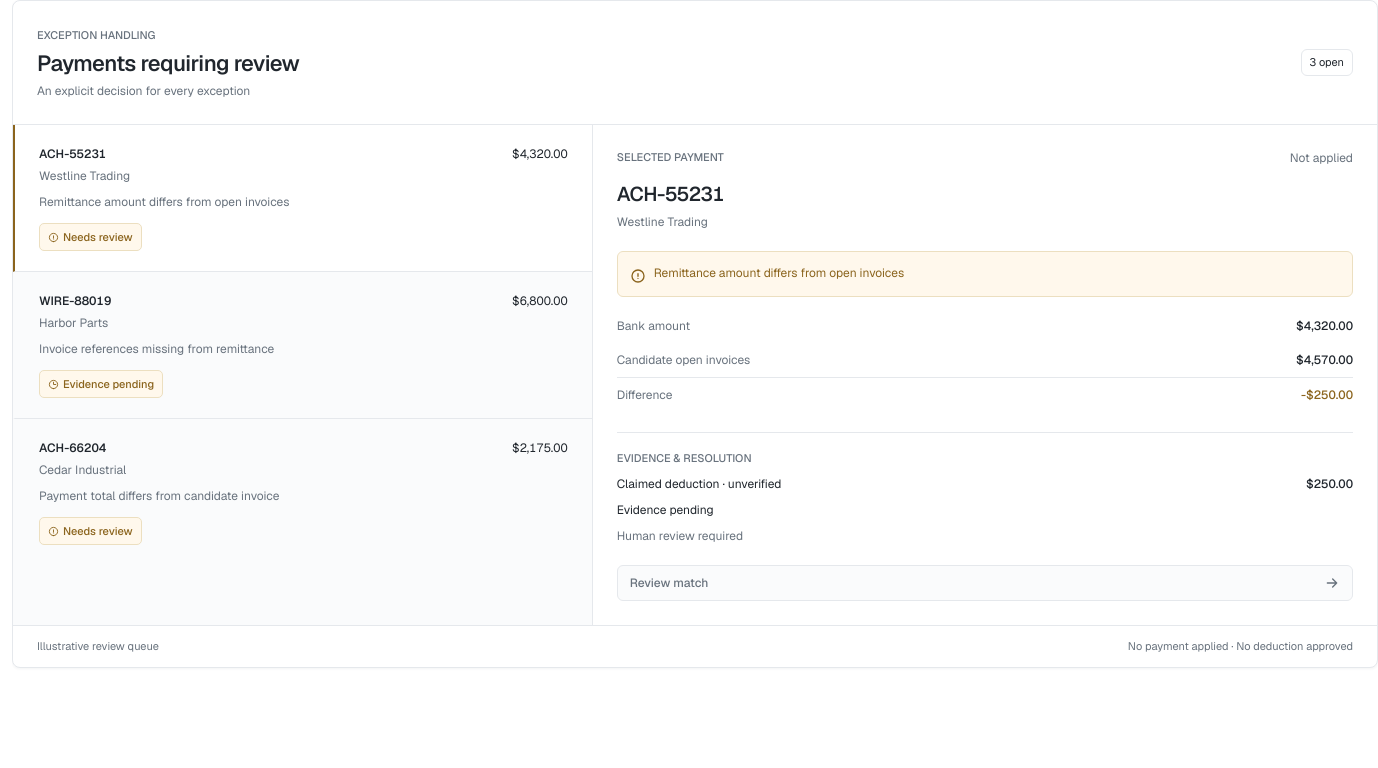
Test: additional reconciliation variations › does not invent a difference when open invoice amounts are unknown
Click the button with aria-label "Inspect WIRE-88019".
click(75, 301)  # box [13,272,592,419]
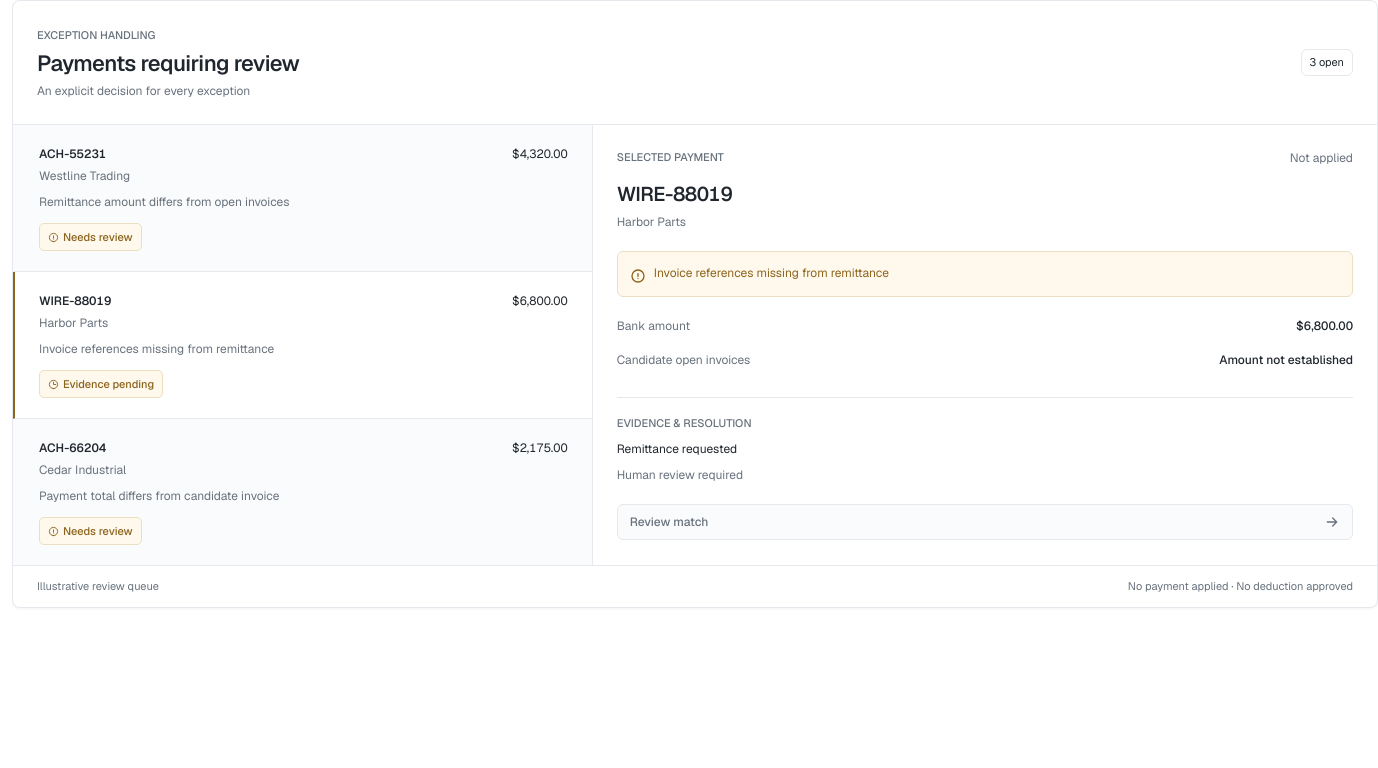
Result: the text "Amount not established" is shown at [1219,351,1353,369]
Result: the text "-$250.00" is gone
